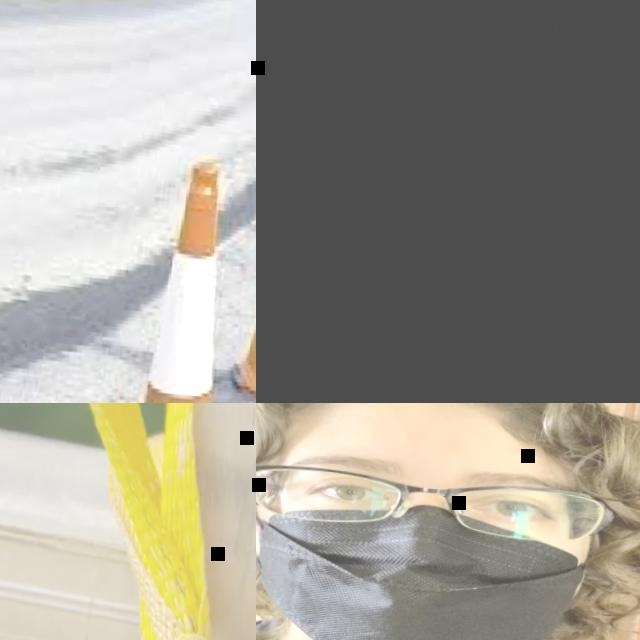Mask: (256, 493, 603, 640)
NO-Hardhat: (256, 403, 640, 470)
Person: (256, 403, 640, 640)
Safety Cone: (98, 153, 256, 403), (203, 0, 256, 403)
